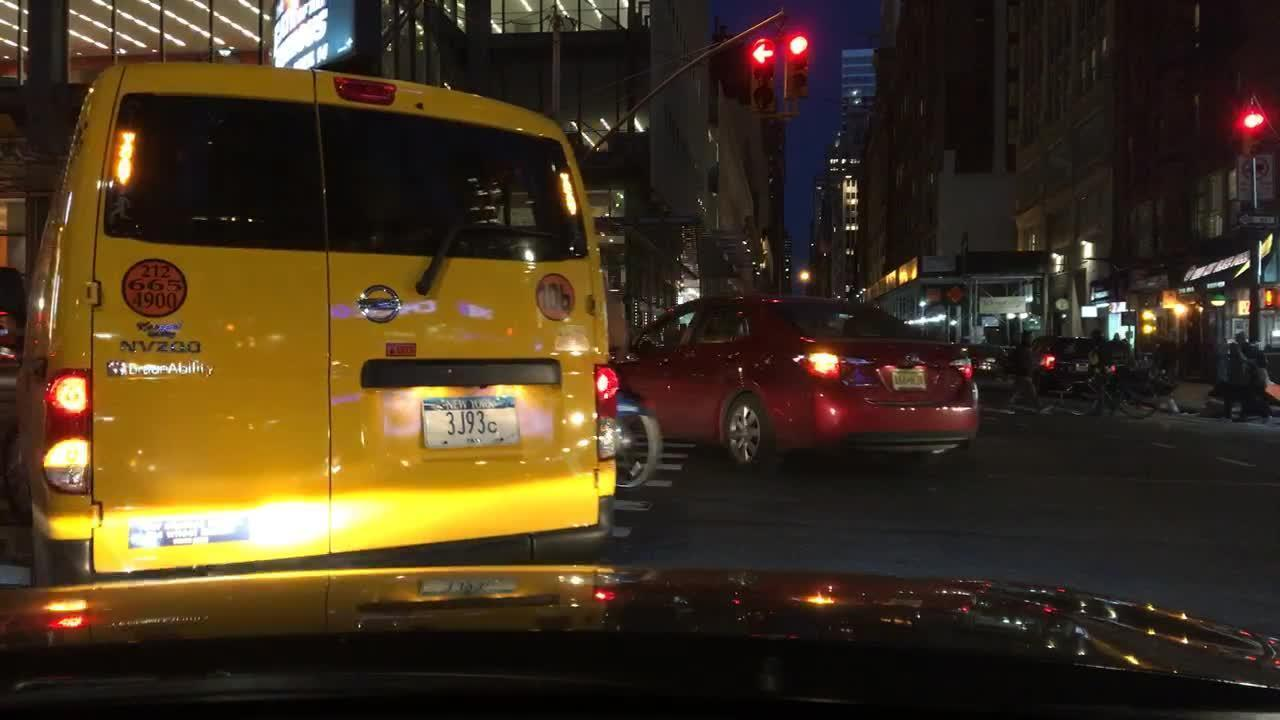Nissan: (355, 280, 406, 327)
